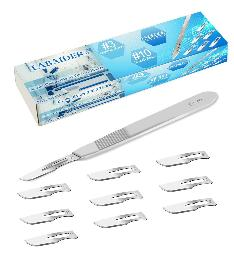scalpel: (19, 90, 218, 182)
